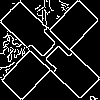H: (25, 25, 82, 83)
